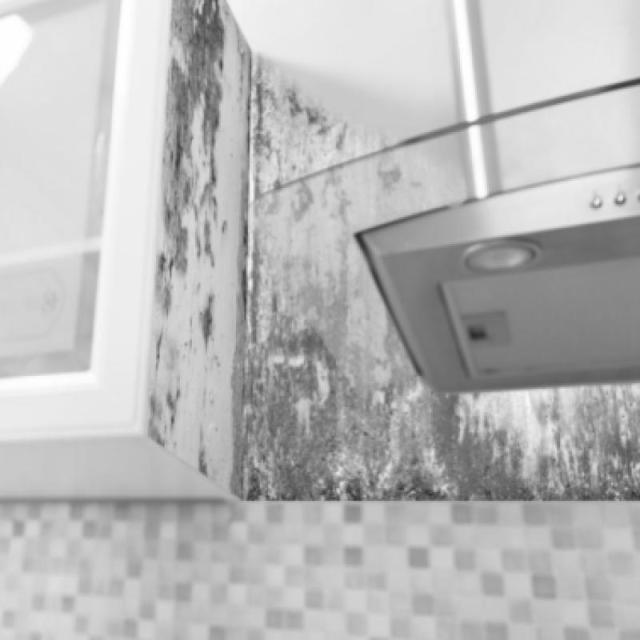stain marks: (157, 0, 640, 506)
